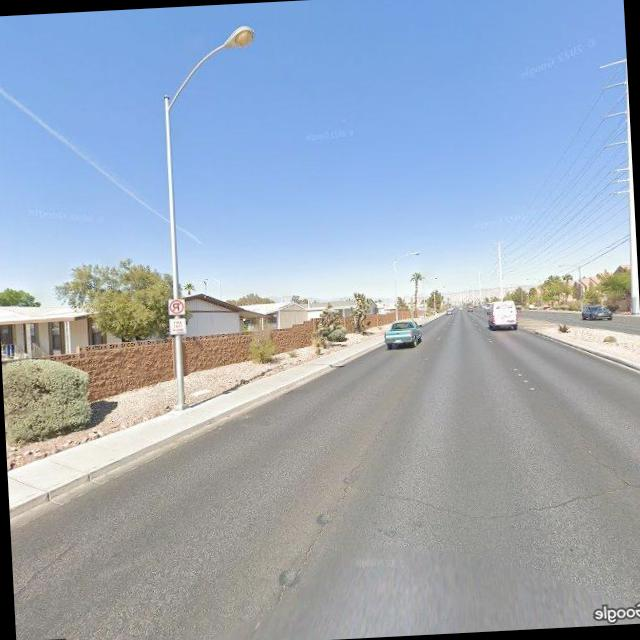crack: (365, 472, 640, 529)
